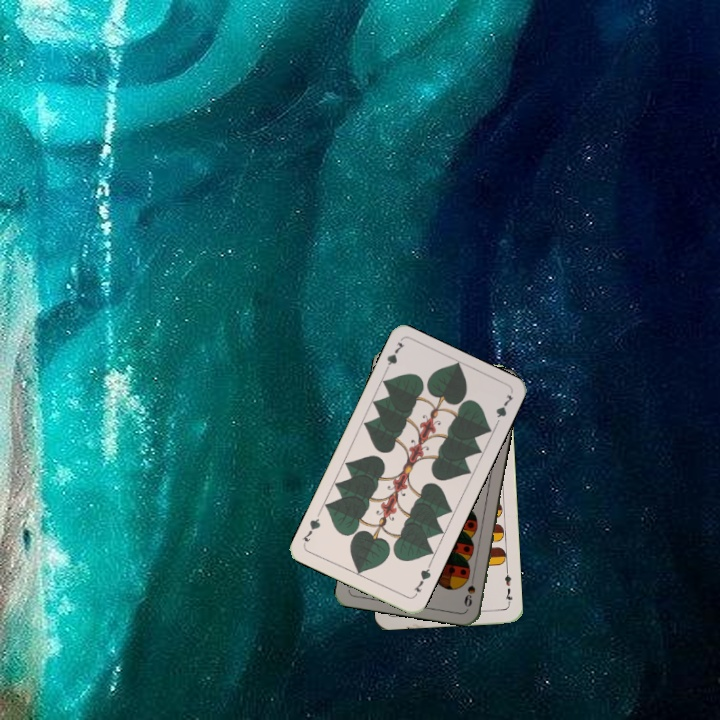E7: (501, 567, 515, 607)
G7: (380, 338, 407, 376), (409, 561, 434, 599)
S9: (460, 569, 478, 609)
